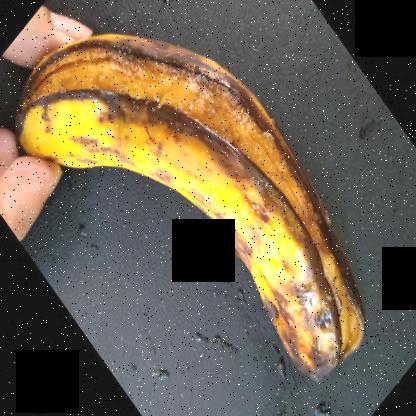rotten: (14, 20, 387, 403)
